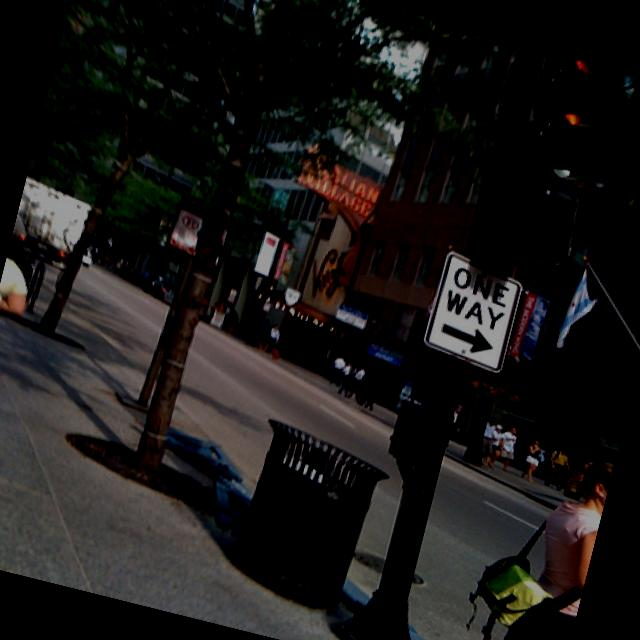Vehicle: (8, 174, 96, 268)
